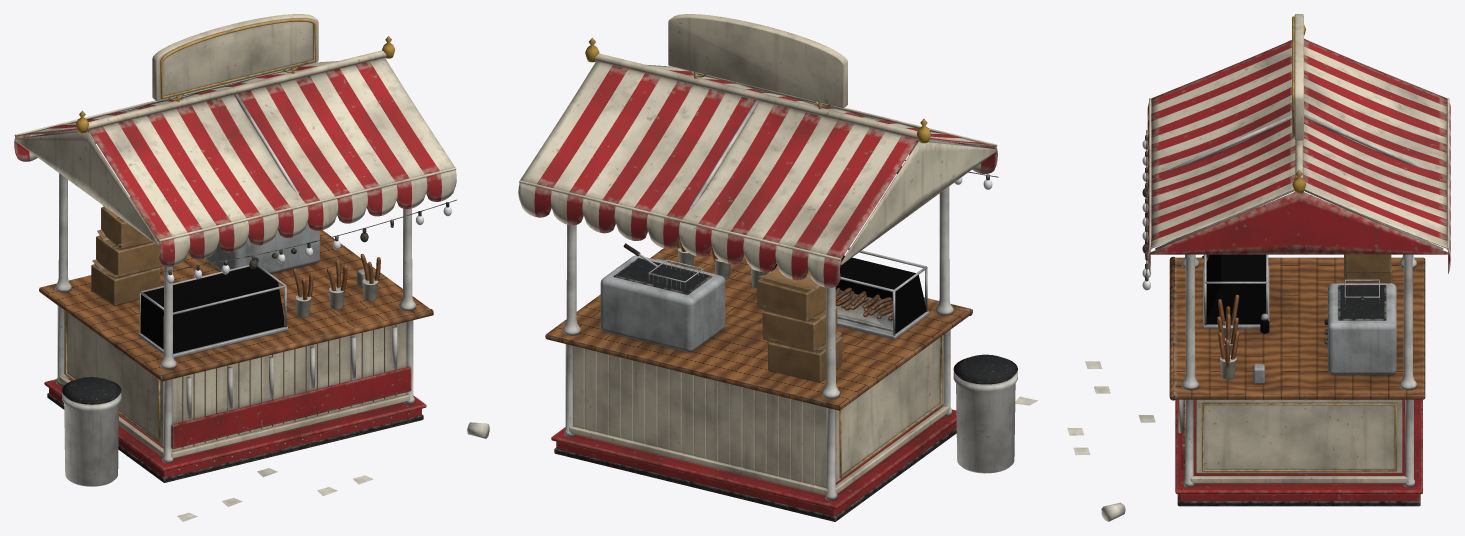
Rendered from Deco_Food_Churros_HQ.fbx.
The picture shows the model from 3 angles, left to right: view 1: azimuth 30°, elevation 25°; view 2: azimuth 150°, elevation 25°; view 3: azimuth 270°, elevation 25°; orthographic projection. The views are drawn at different scales.
Visible parts, largest first — view 1: Static_AwningStripe, Static_KioskCream, Static_CounterWood, Static_KioskRed, Static_KioskWhite, Static_Glass, Static_Cardboard, Static_Stainless, Static_KioskGold, Static_Rubber, Static_PaperCup, Static_IronBlack (+2 smaller); view 2: Static_AwningStripe, Static_KioskCream, Static_CounterWood, Static_KioskWhite, Static_Stainless, Static_KioskRed, Static_Cardboard, Static_IronBlack, Static_Glass, Static_Rubber, Static_KioskGold, Static_PaperCup (+1 smaller); view 3: Static_AwningStripe, Static_CounterWood, Static_KioskCream, Static_KioskRed, Static_KioskWhite, Static_Stainless, Static_Glass, Static_KioskGold, Static_IronBlack, Static_Rubber, Static_PaperCup, Static_Cardboard (+1 smaller).
Boxes of the visible parts, x1,y1,x2,y2 form: Static_AwningStripe: (14, 57, 456, 266); Static_KioskCream: (14, 14, 456, 458); Static_CounterWood: (39, 230, 433, 381); Static_KioskRed: (44, 366, 426, 477); Static_KioskWhite: (22, 93, 415, 486); Static_Glass: (141, 266, 284, 353); Static_Cardboard: (91, 197, 163, 305); Static_Stainless: (138, 222, 364, 358); Static_KioskGold: (65, 18, 409, 470); Static_Rubber: (47, 199, 456, 482); Static_PaperCup: (177, 273, 489, 521); Static_IronBlack: (62, 202, 449, 404); Static_AwningStripe: (518, 61, 997, 287); Static_KioskCream: (519, 14, 997, 495); Static_CounterWood: (545, 247, 972, 410); Static_KioskWhite: (562, 100, 1017, 500); Static_Stainless: (600, 247, 929, 352); Static_KioskRed: (551, 409, 956, 516); Static_Cardboard: (757, 265, 842, 381); Static_IronBlack: (613, 174, 1017, 384); Static_Glass: (771, 255, 926, 333); Static_Rubber: (554, 160, 998, 521); Static_KioskGold: (585, 32, 942, 478); Static_PaperCup: (658, 248, 1037, 405); Static_AwningStripe: (1147, 39, 1450, 273); Static_CounterWood: (1169, 256, 1425, 400); Static_KioskCream: (1149, 14, 1449, 483); Static_KioskRed: (1175, 399, 1422, 500); Static_KioskWhite: (1155, 114, 1443, 487); Static_Stainless: (1203, 254, 1396, 383); Static_Glass: (1206, 254, 1269, 333); Static_KioskGold: (1202, 16, 1396, 471); Static_IronBlack: (1145, 135, 1386, 344); Static_Rubber: (1146, 130, 1420, 506); Static_PaperCup: (1067, 321, 1236, 521); Static_Cardboard: (1344, 254, 1392, 283).
Size of the model in its own units: 3.83 by 3.84 by 3.35.
